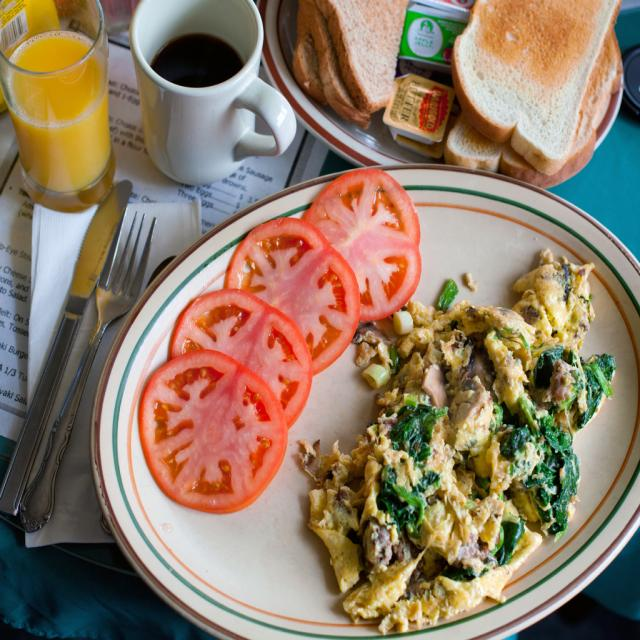Tea: (152, 36, 244, 88)
